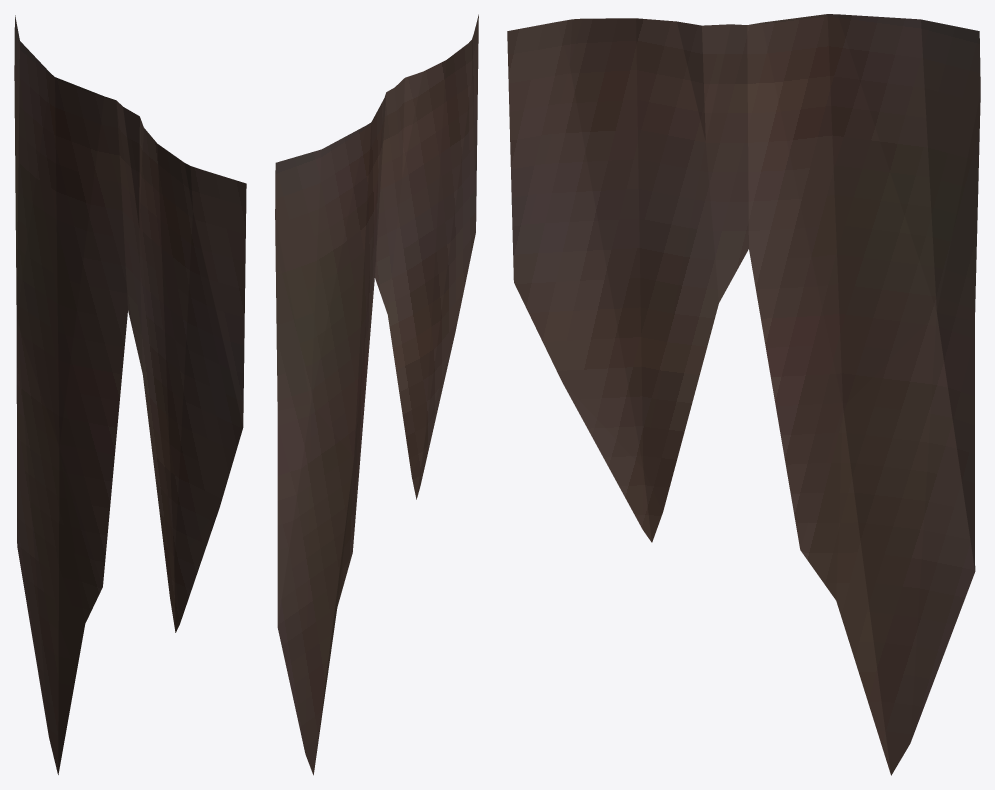
3 renders of one model, left to right at view 1: azimuth 30°, elevation 25°; view 2: azimuth 150°, elevation 25°; view 3: azimuth 270°, elevation 25°, orthographic. The views are drawn at different scales.
Bounding box in the file's own units: 0.7928 × 16.01 × 9.23.
Materials: 1 (1 with a texture image).
